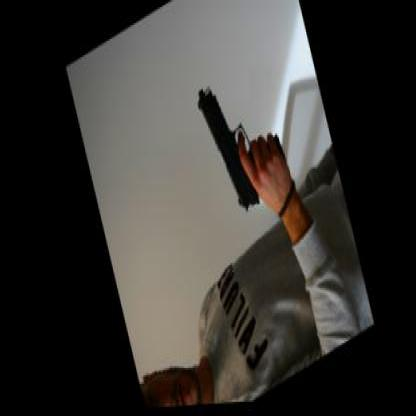pistol: (191, 52, 291, 230)
